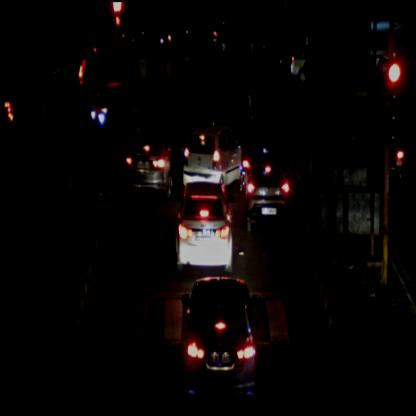car: (181, 276, 262, 404), (174, 180, 235, 272), (122, 124, 185, 200), (182, 120, 245, 188), (245, 154, 291, 235), (208, 350, 232, 366), (194, 231, 210, 240)
motorcycle: (392, 116, 406, 188)
